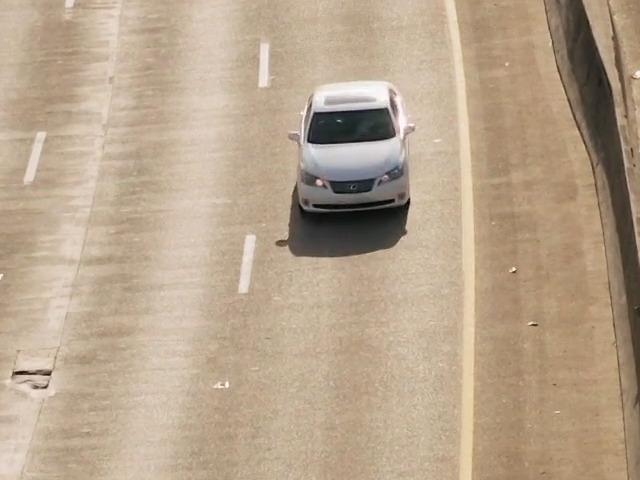car: (293, 67, 423, 250)
